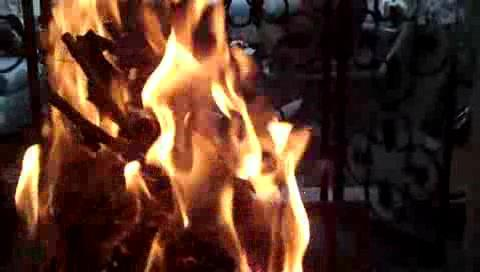fire: (37, 0, 287, 259)
